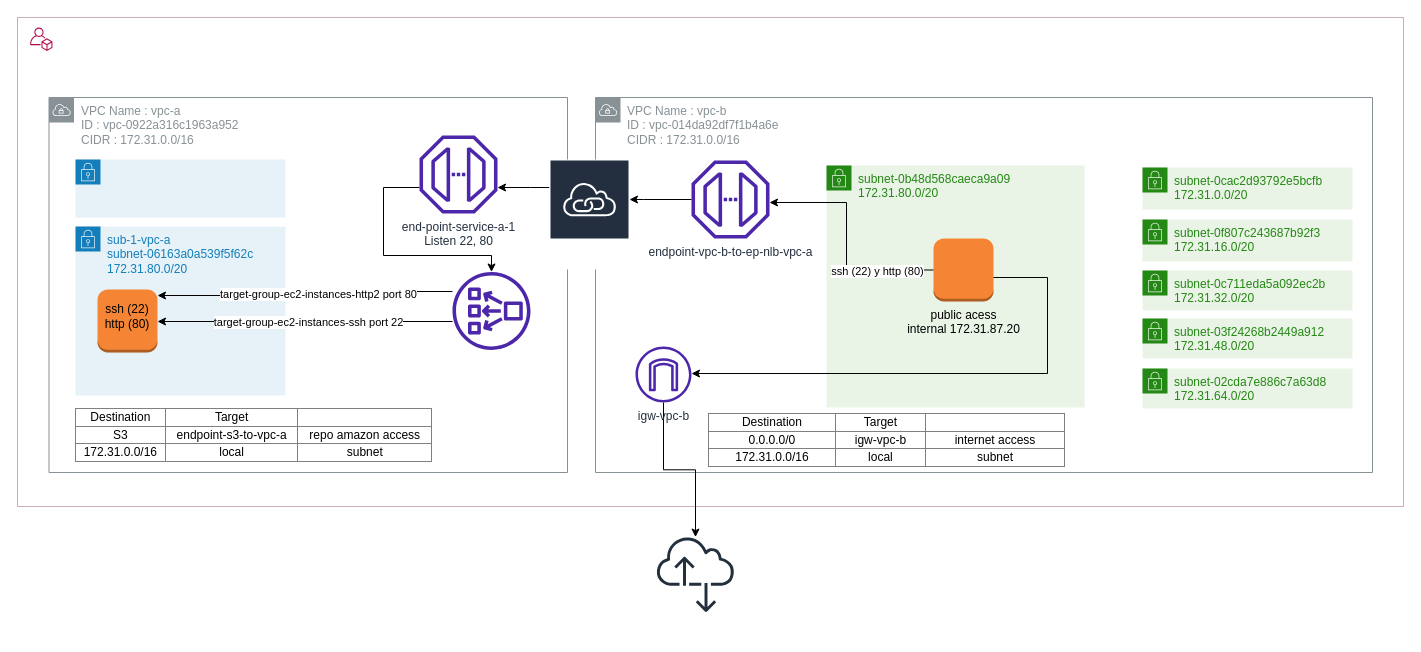
Image size: 1421x652. Some labels were removed from this diagram. Here are the shapes that lost their labels. From the top down, the box of each, then its label:
(30, 27, 52, 50): AWS Account caogaldh (management account) # 810163013292
(74, 158, 286, 218): sub-2-vpc-a subnet-011f5cf566d65f133 172.31.0.0/20
(548, 158, 630, 270): AWS PrivateLink
(96, 288, 158, 352): linux-a-1 (172.31.91.112)
(452, 272, 530, 350): network load balancer Listen 22, 80
(656, 535, 734, 613): Internet
